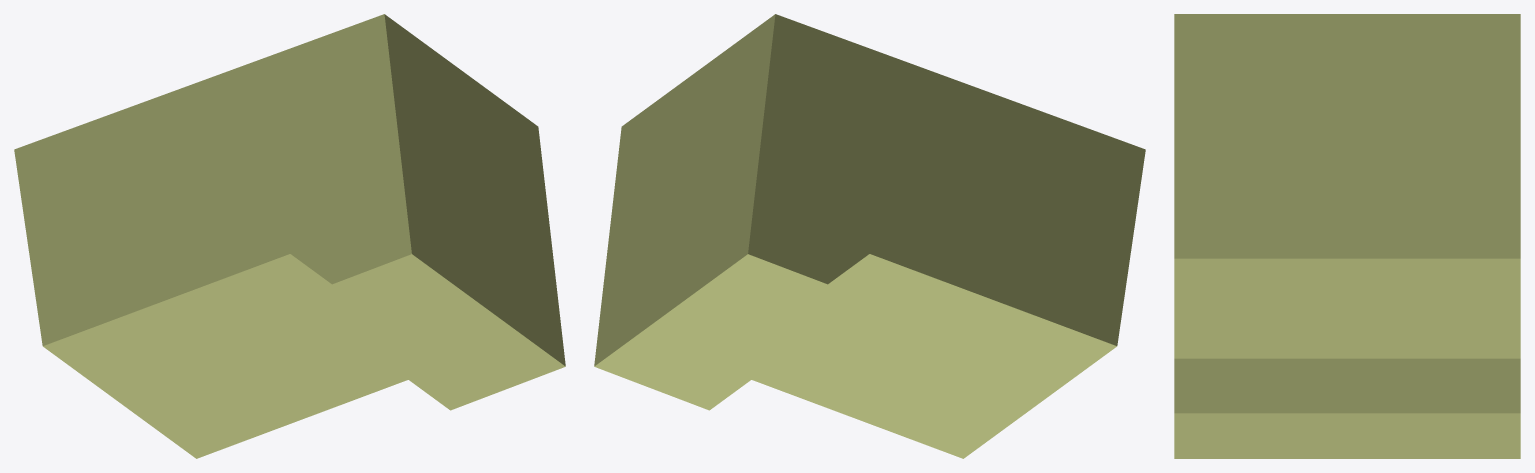
The picture shows the model from 3 angles, left to right: view 1: azimuth 30°, elevation 25°; view 2: azimuth 150°, elevation 25°; view 3: azimuth 270°, elevation 25°; orthographic projection. The views are drawn at different scales.
Parts seen in each view (by area): view 1: 0_2_3_3_3_0_2_0_2_3; view 2: 0_2_3_3_3_0_2_0_2_3; view 3: 0_2_3_3_3_0_2_0_2_3.
Part boxes in pixels (x1,y1,x2,y2): 0_2_3_3_3_0_2_0_2_3: (14,14,565,458); 0_2_3_3_3_0_2_0_2_3: (594,14,1145,458); 0_2_3_3_3_0_2_0_2_3: (1174,14,1520,458).
Size of the model in its own units: 13.43 by 8.47 by 9.
